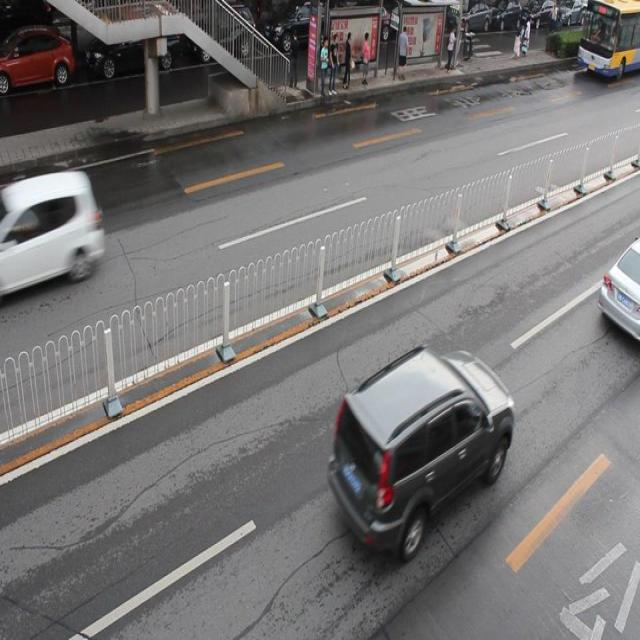car: (330, 342, 513, 552), (1, 168, 103, 290), (83, 24, 180, 82), (1, 29, 76, 95), (596, 235, 640, 343), (186, 1, 255, 63), (262, 1, 330, 58)
van: (576, 1, 640, 77)
